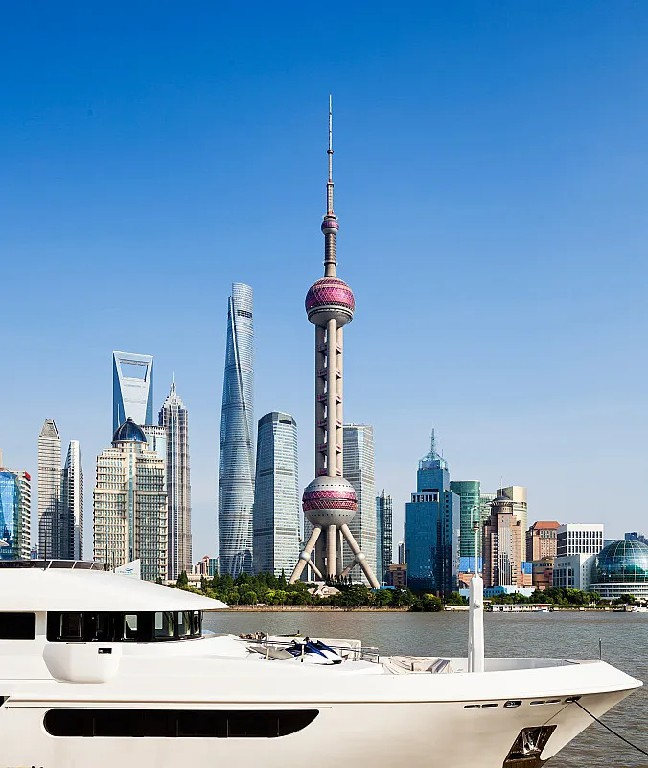Oriental: (289, 92, 381, 590)
